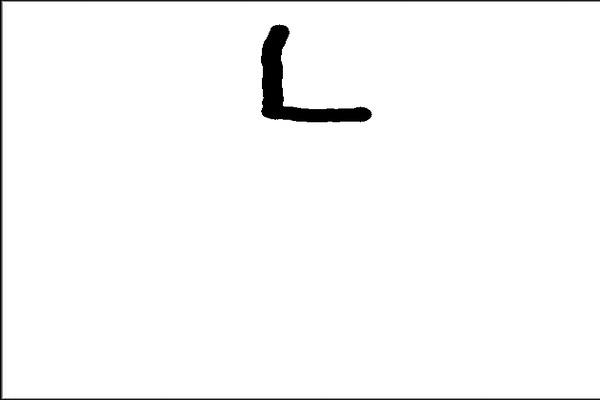L: (254, 17, 379, 131)
